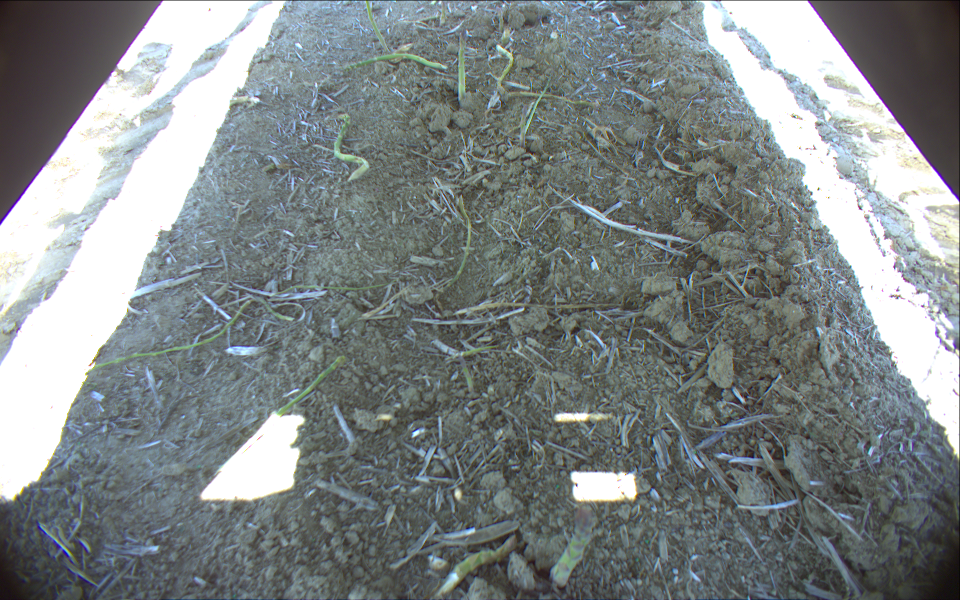aspa: (456, 31, 469, 105)
